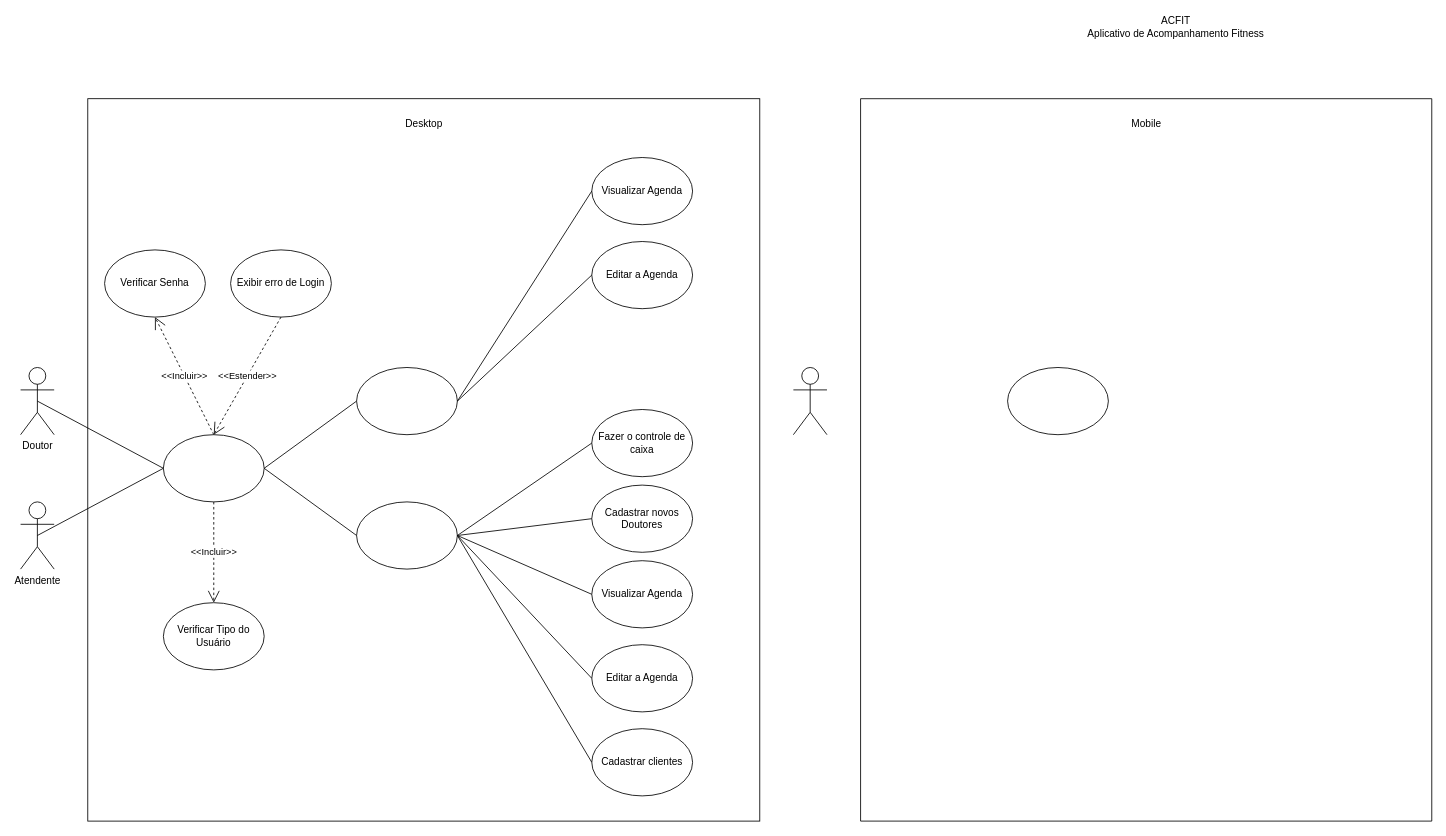
This 1446x836 diagram has some shape labels left out. The shapes that lost their labels are listed below. From the top down, each one's centre as x and y in pixels, then its label:
point 406,401: Visualizar página Doutor
point 810,401: Paciente
point 213,468: Fazer Login
point 406,535: Visualizar página Atendente
